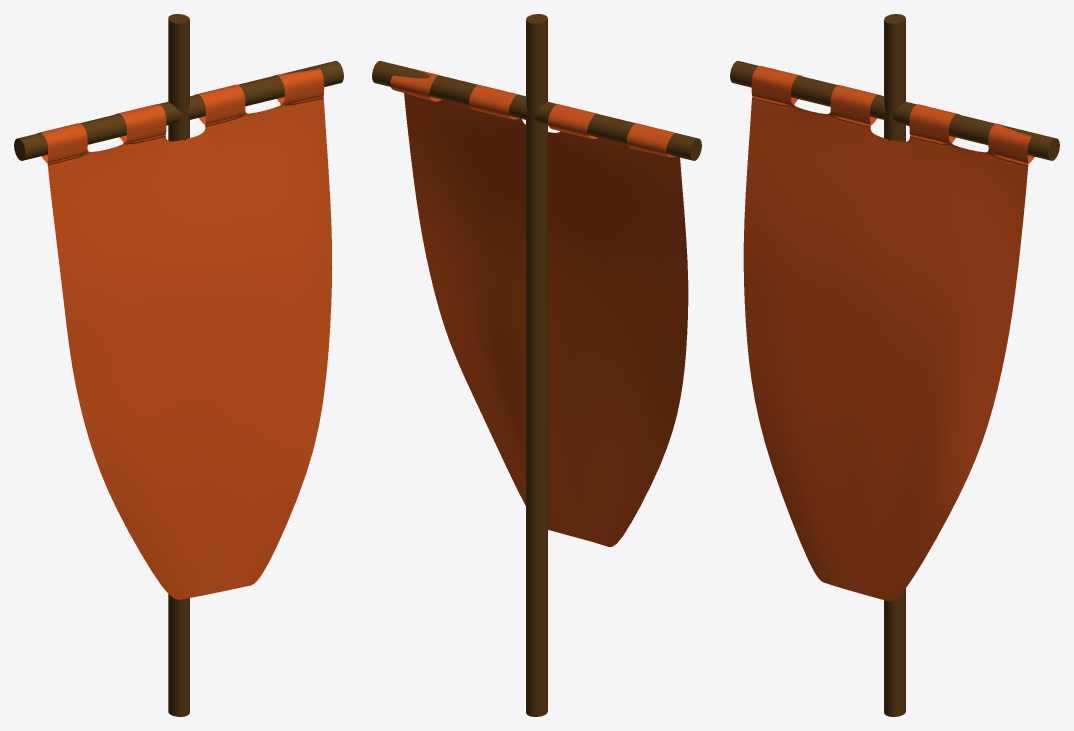
File: Flag v1.fbx
3 renders of one model, left to right at view 1: azimuth 30°, elevation 25°; view 2: azimuth 150°, elevation 25°; view 3: azimuth 330°, elevation 25°, orthographic.
Visible parts, largest first — view 1: Plane, Cylinder, Cylinder.001; view 2: Plane, Cylinder, Cylinder.001; view 3: Plane, Cylinder, Cylinder.001.
Boxes of the visible parts, x1,y1,x2,y2 form: Plane: (37, 68, 332, 599); Cylinder: (168, 14, 189, 716); Cylinder.001: (14, 61, 343, 160); Plane: (390, 65, 688, 546); Cylinder: (526, 14, 547, 716); Cylinder.001: (372, 61, 701, 160); Plane: (743, 66, 1034, 601); Cylinder: (884, 14, 905, 716); Cylinder.001: (730, 61, 1059, 160).
Bounding box in the file's own units: 16.12 × 33.55 × 4.12.
